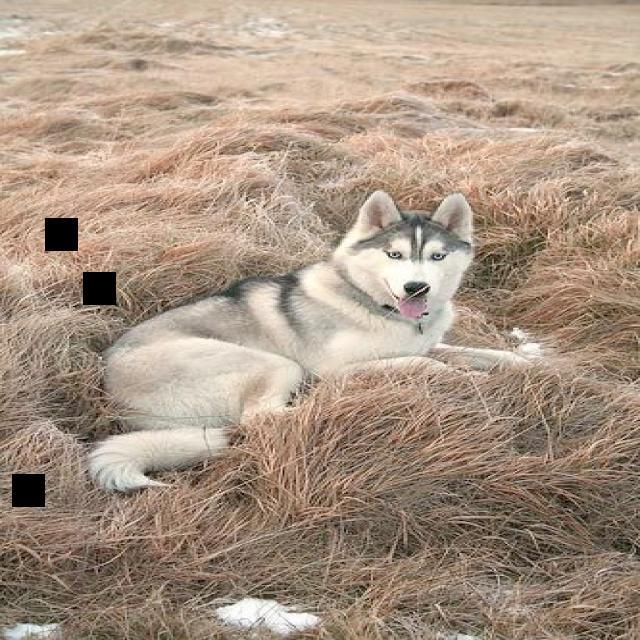adult_dog: (83, 185, 536, 493)
